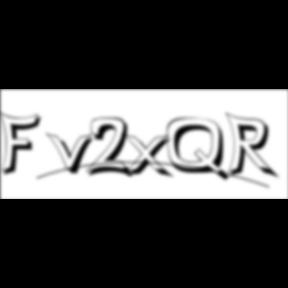2: (87, 117, 137, 181)
F: (0, 110, 48, 178)
Q: (167, 117, 233, 184)
R: (225, 112, 282, 182)
v: (46, 131, 100, 177)
x: (123, 132, 178, 181)
